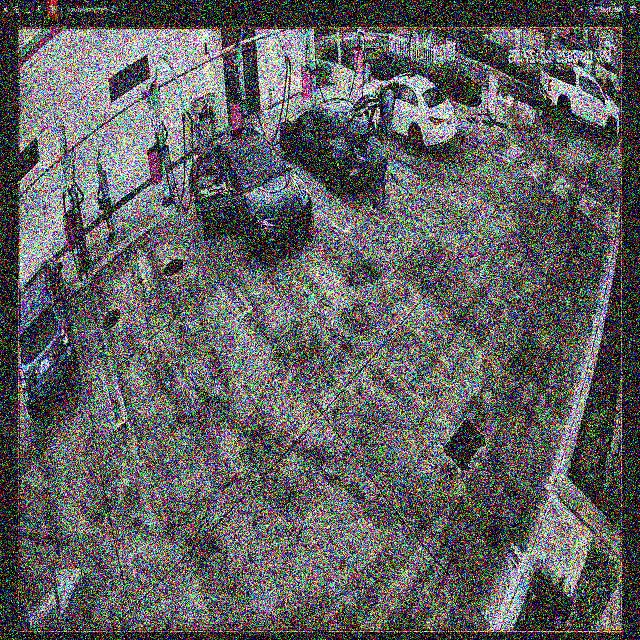Car: (189, 132, 311, 258), (282, 92, 382, 187), (355, 70, 456, 152)
